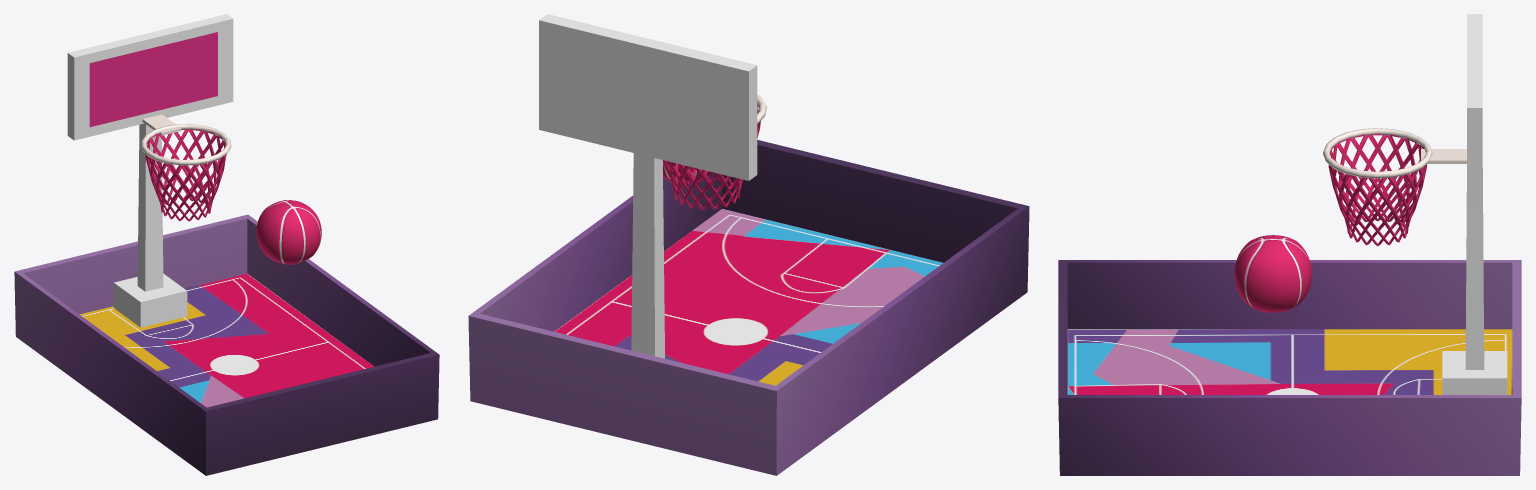
File: Saha_Pota_Top.fbx
The picture shows the model from 3 angles, left to right: view 1: azimuth 30°, elevation 25°; view 2: azimuth 150°, elevation 25°; view 3: azimuth 270°, elevation 25°; orthographic projection. The views are drawn at different scales.
Parts seen in each view (by area): view 1: saha, pota, file, top; view 2: saha, pota, file; view 3: saha, pota, file, top.
Boxes of the visible parts, left/top/right/bottom form: saha: left=14, top=214, right=439, bottom=475; pota: left=67, top=14, right=233, bottom=327; file: left=141, top=114, right=231, bottom=221; top: left=256, top=200, right=321, bottom=264; saha: left=468, top=140, right=1029, bottom=475; pota: left=539, top=14, right=757, bottom=358; file: left=663, top=94, right=766, bottom=210; saha: left=1058, top=260, right=1521, bottom=475; pota: left=1442, top=14, right=1507, bottom=394; file: left=1323, top=128, right=1466, bottom=246; top: left=1234, top=235, right=1311, bottom=312.
Size of the model in its own units: 8878 by 10394 by 12597.
Materials: 3 (3 with a texture image).
